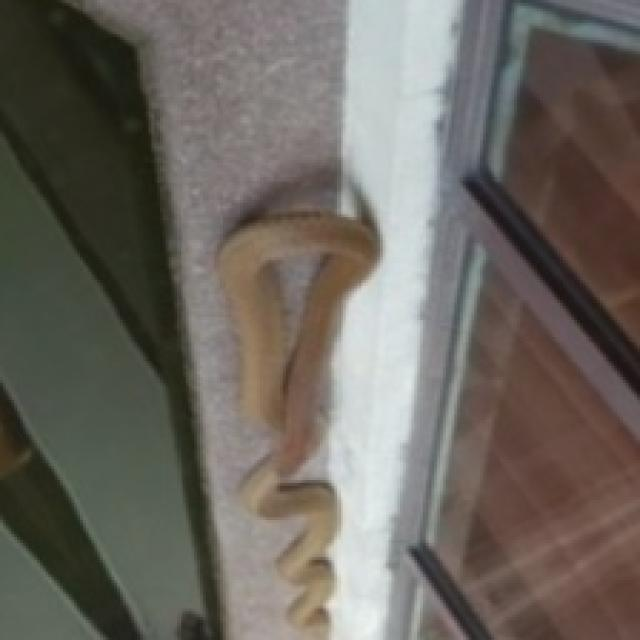king cobra: (217, 209, 377, 634)
